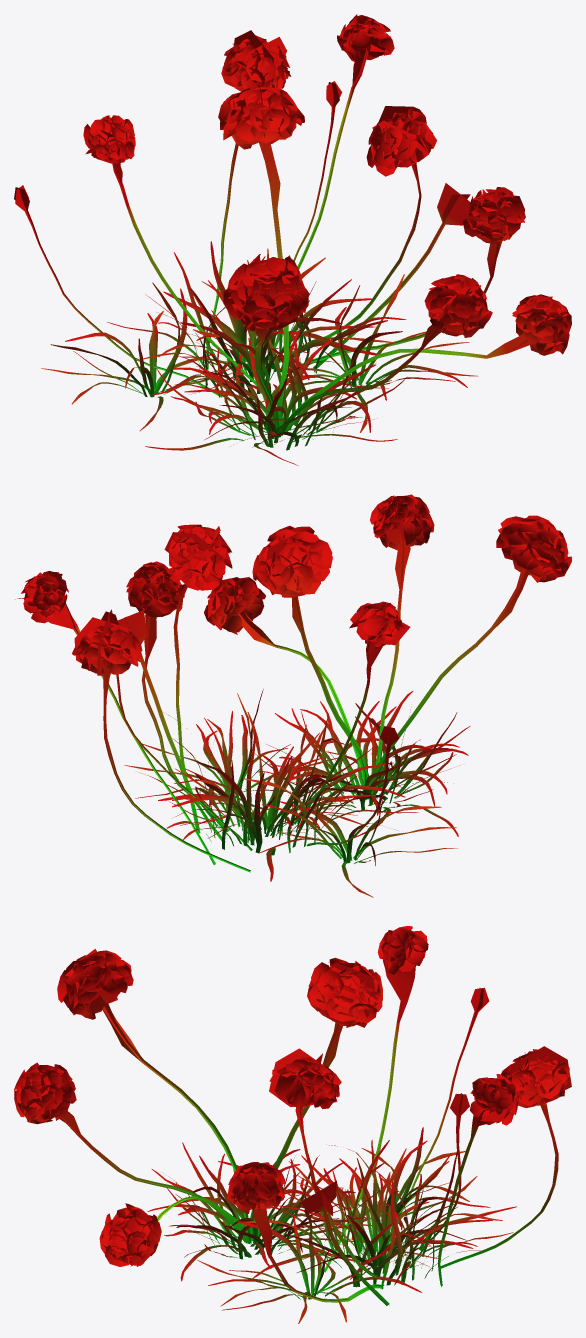
The model's file is Var5_LOD0.fbx.
The picture shows the model from 3 angles, top to bottom: view 1: azimuth 30°, elevation 25°; view 2: azimuth 150°, elevation 25°; view 3: azimuth 270°, elevation 25°; orthographic projection. The views are drawn at different scales.
Parts seen in each view (by area): view 1: _rv6s_Var5_LOD0; view 2: _rv6s_Var5_LOD0; view 3: _rv6s_Var5_LOD0.
Part boxes in pixels (x1,y1,x2,y2): _rv6s_Var5_LOD0: (14,14,571,465); _rv6s_Var5_LOD0: (15,494,571,897); _rv6s_Var5_LOD0: (14,926,571,1323).
Bounding box in the file's own units: 26.97 × 20.72 × 33.99.
